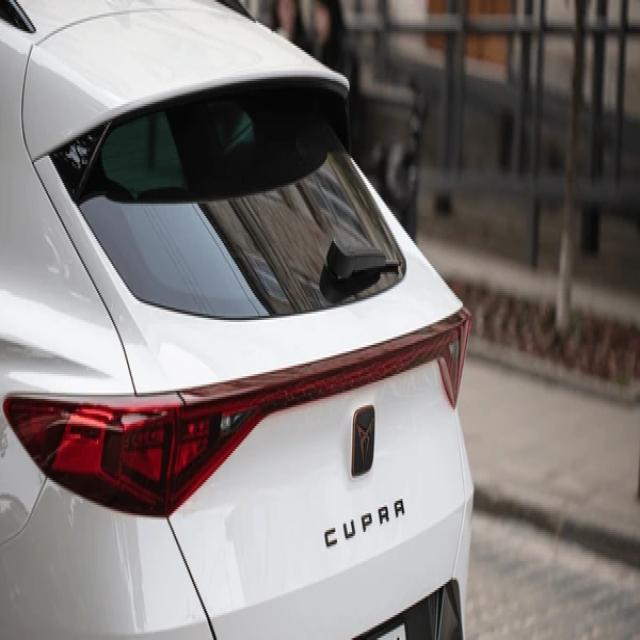cupra: (354, 404, 378, 476)
